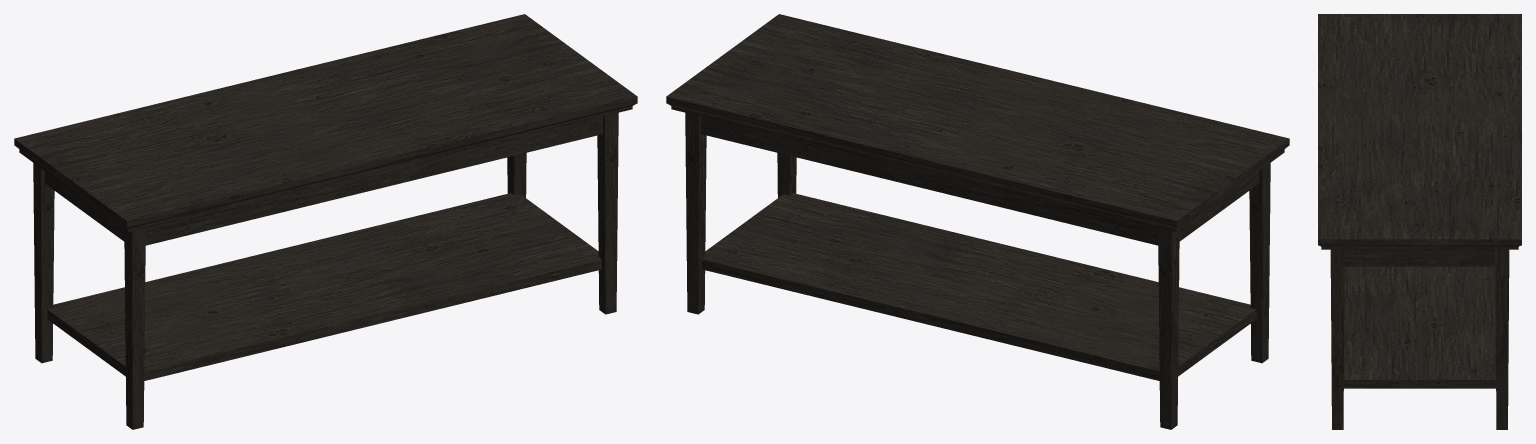
File: coffee_table_1.glb
3 renders of one model, left to right at view 1: azimuth 30°, elevation 25°; view 2: azimuth 150°, elevation 25°; view 3: azimuth 270°, elevation 25°, orthographic. The views are drawn at different scales.
Parts seen in each view (by area): view 1: coffee_table_1; view 2: coffee_table_1; view 3: coffee_table_1.
Part boxes in pixels (x1,y1,x2,y2): coffee_table_1: [14, 14, 637, 429]; coffee_table_1: [666, 14, 1289, 429]; coffee_table_1: [1318, 14, 1521, 429].
Bounding box in the file's own units: 1.62 × 0.66 × 0.62.
1 material, 1 textured.
